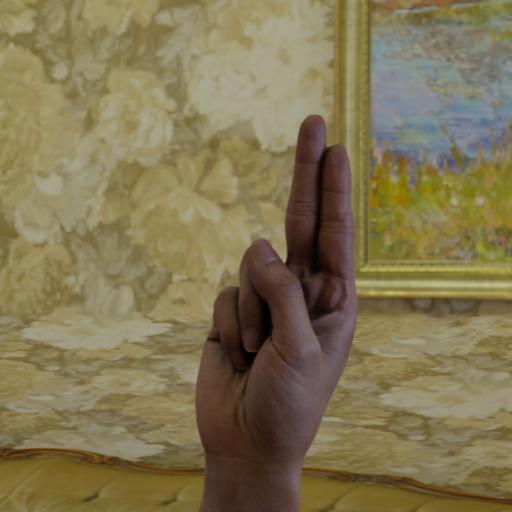U: (170, 98, 390, 478)
